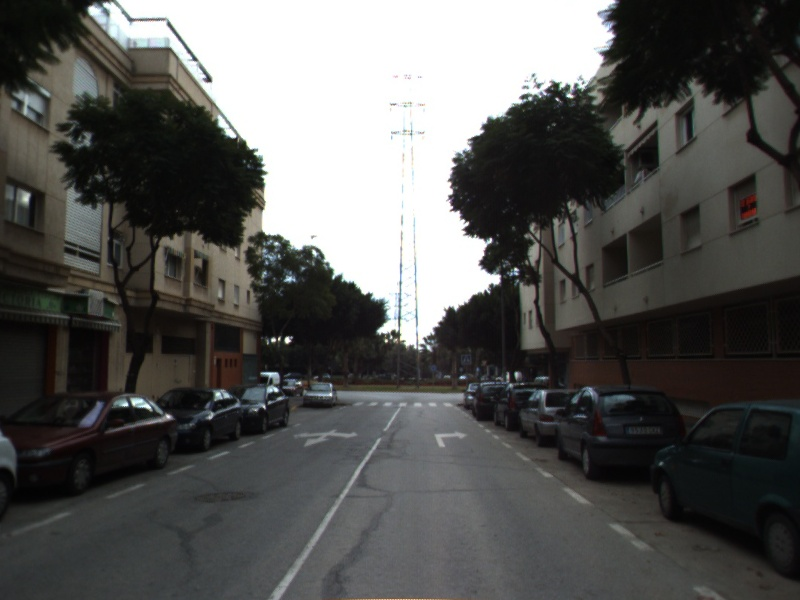RIGHT: (433, 429, 471, 449)
